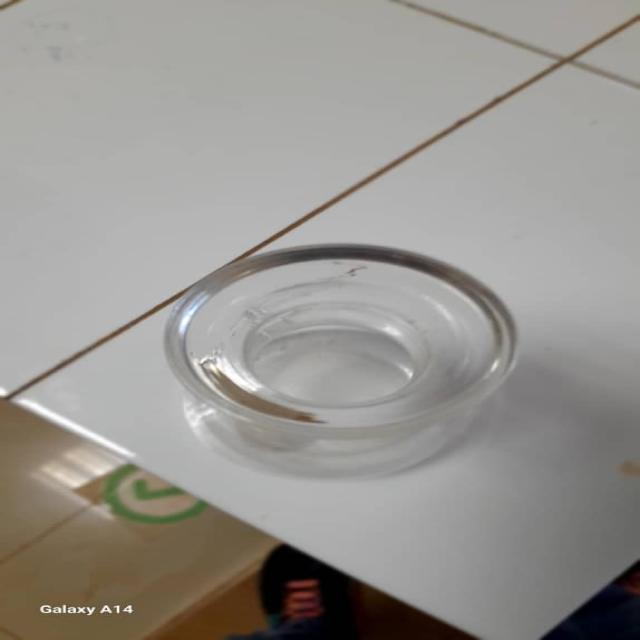Filtration Flask: (170, 227, 566, 456)
